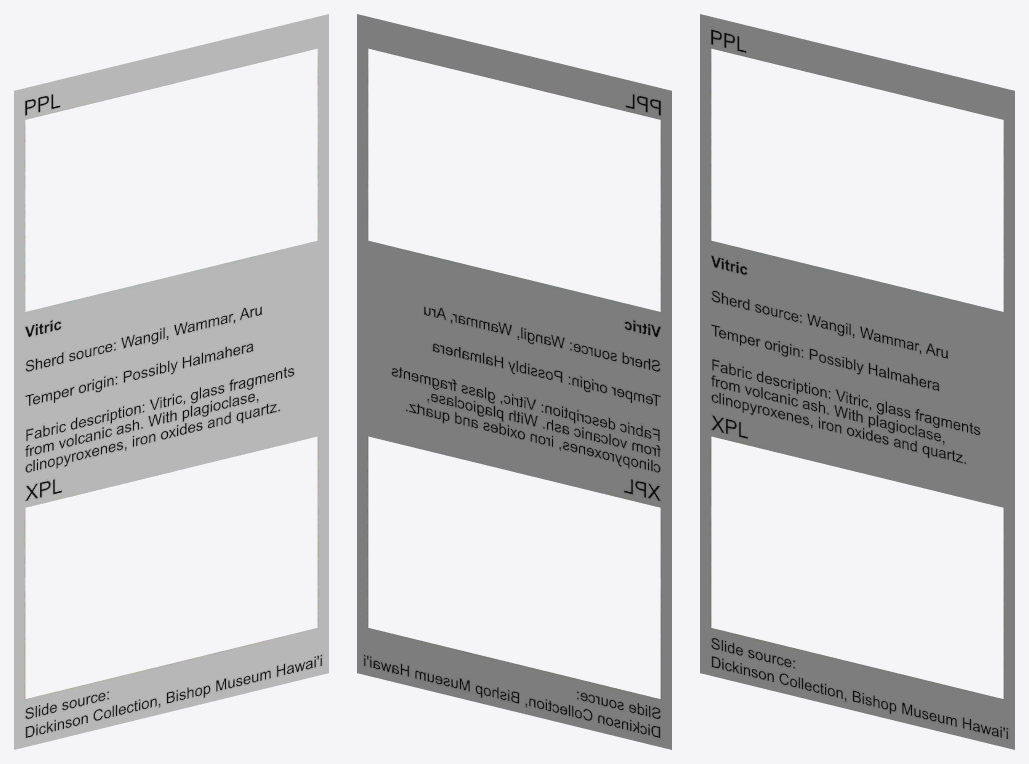
The model's file is wd_17_1_frame.glb.
The picture shows the model from 3 angles, left to right: view 1: azimuth 30°, elevation 25°; view 2: azimuth 150°, elevation 25°; view 3: azimuth 330°, elevation 25°; orthographic projection.
Visible parts, largest first — view 1: WD_17_1; view 2: WD_17_1; view 3: WD_17_1.
Boxes of the visible parts, left/top/right/bottom form: WD_17_1: left=14, top=14, right=328, bottom=749; WD_17_1: left=357, top=14, right=671, bottom=749; WD_17_1: left=700, top=14, right=1014, bottom=749.
Size of the model in its own units: 0.5 by 1 by 4.37e-08.
Materials: 1 (1 with a texture image).
